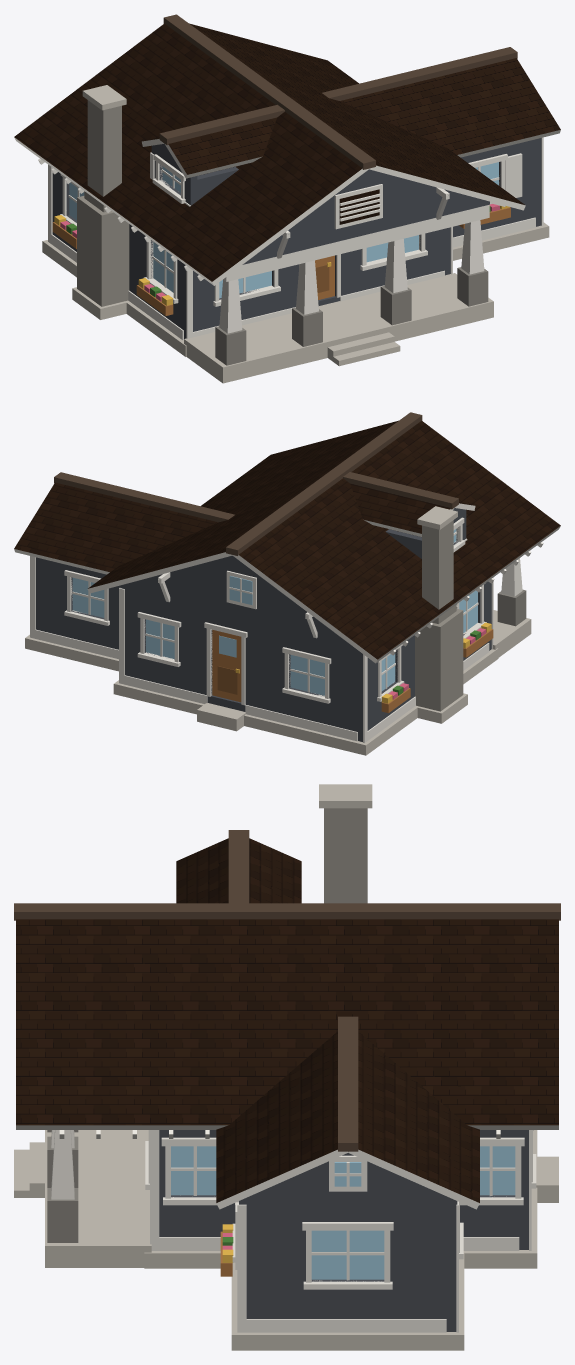
File: base-04-level2.glb
3 renders of one model, top to bottom at view 1: azimuth 30°, elevation 25°; view 2: azimuth 150°, elevation 25°; view 3: azimuth 270°, elevation 25°, orthographic. The views are drawn at different scales.
Visible parts, largest first — view 1: base_house_4_finished, piece_addition; view 2: base_house_4_finished, piece_addition; view 3: base_house_4_finished, piece_addition.
Part boxes in pixels (bbox=[...]): base_house_4_finished: bbox=[14, 14, 525, 383]; piece_addition: bbox=[322, 47, 560, 260]; base_house_4_finished: bbox=[87, 412, 560, 755]; piece_addition: bbox=[14, 472, 234, 671]; base_house_4_finished: bbox=[14, 784, 560, 1268]; piece_addition: bbox=[216, 1016, 479, 1350].
Bounding box in the file's own units: 13.99 × 6.56 × 11.28.
Materials: 16 (1 with a texture image).
